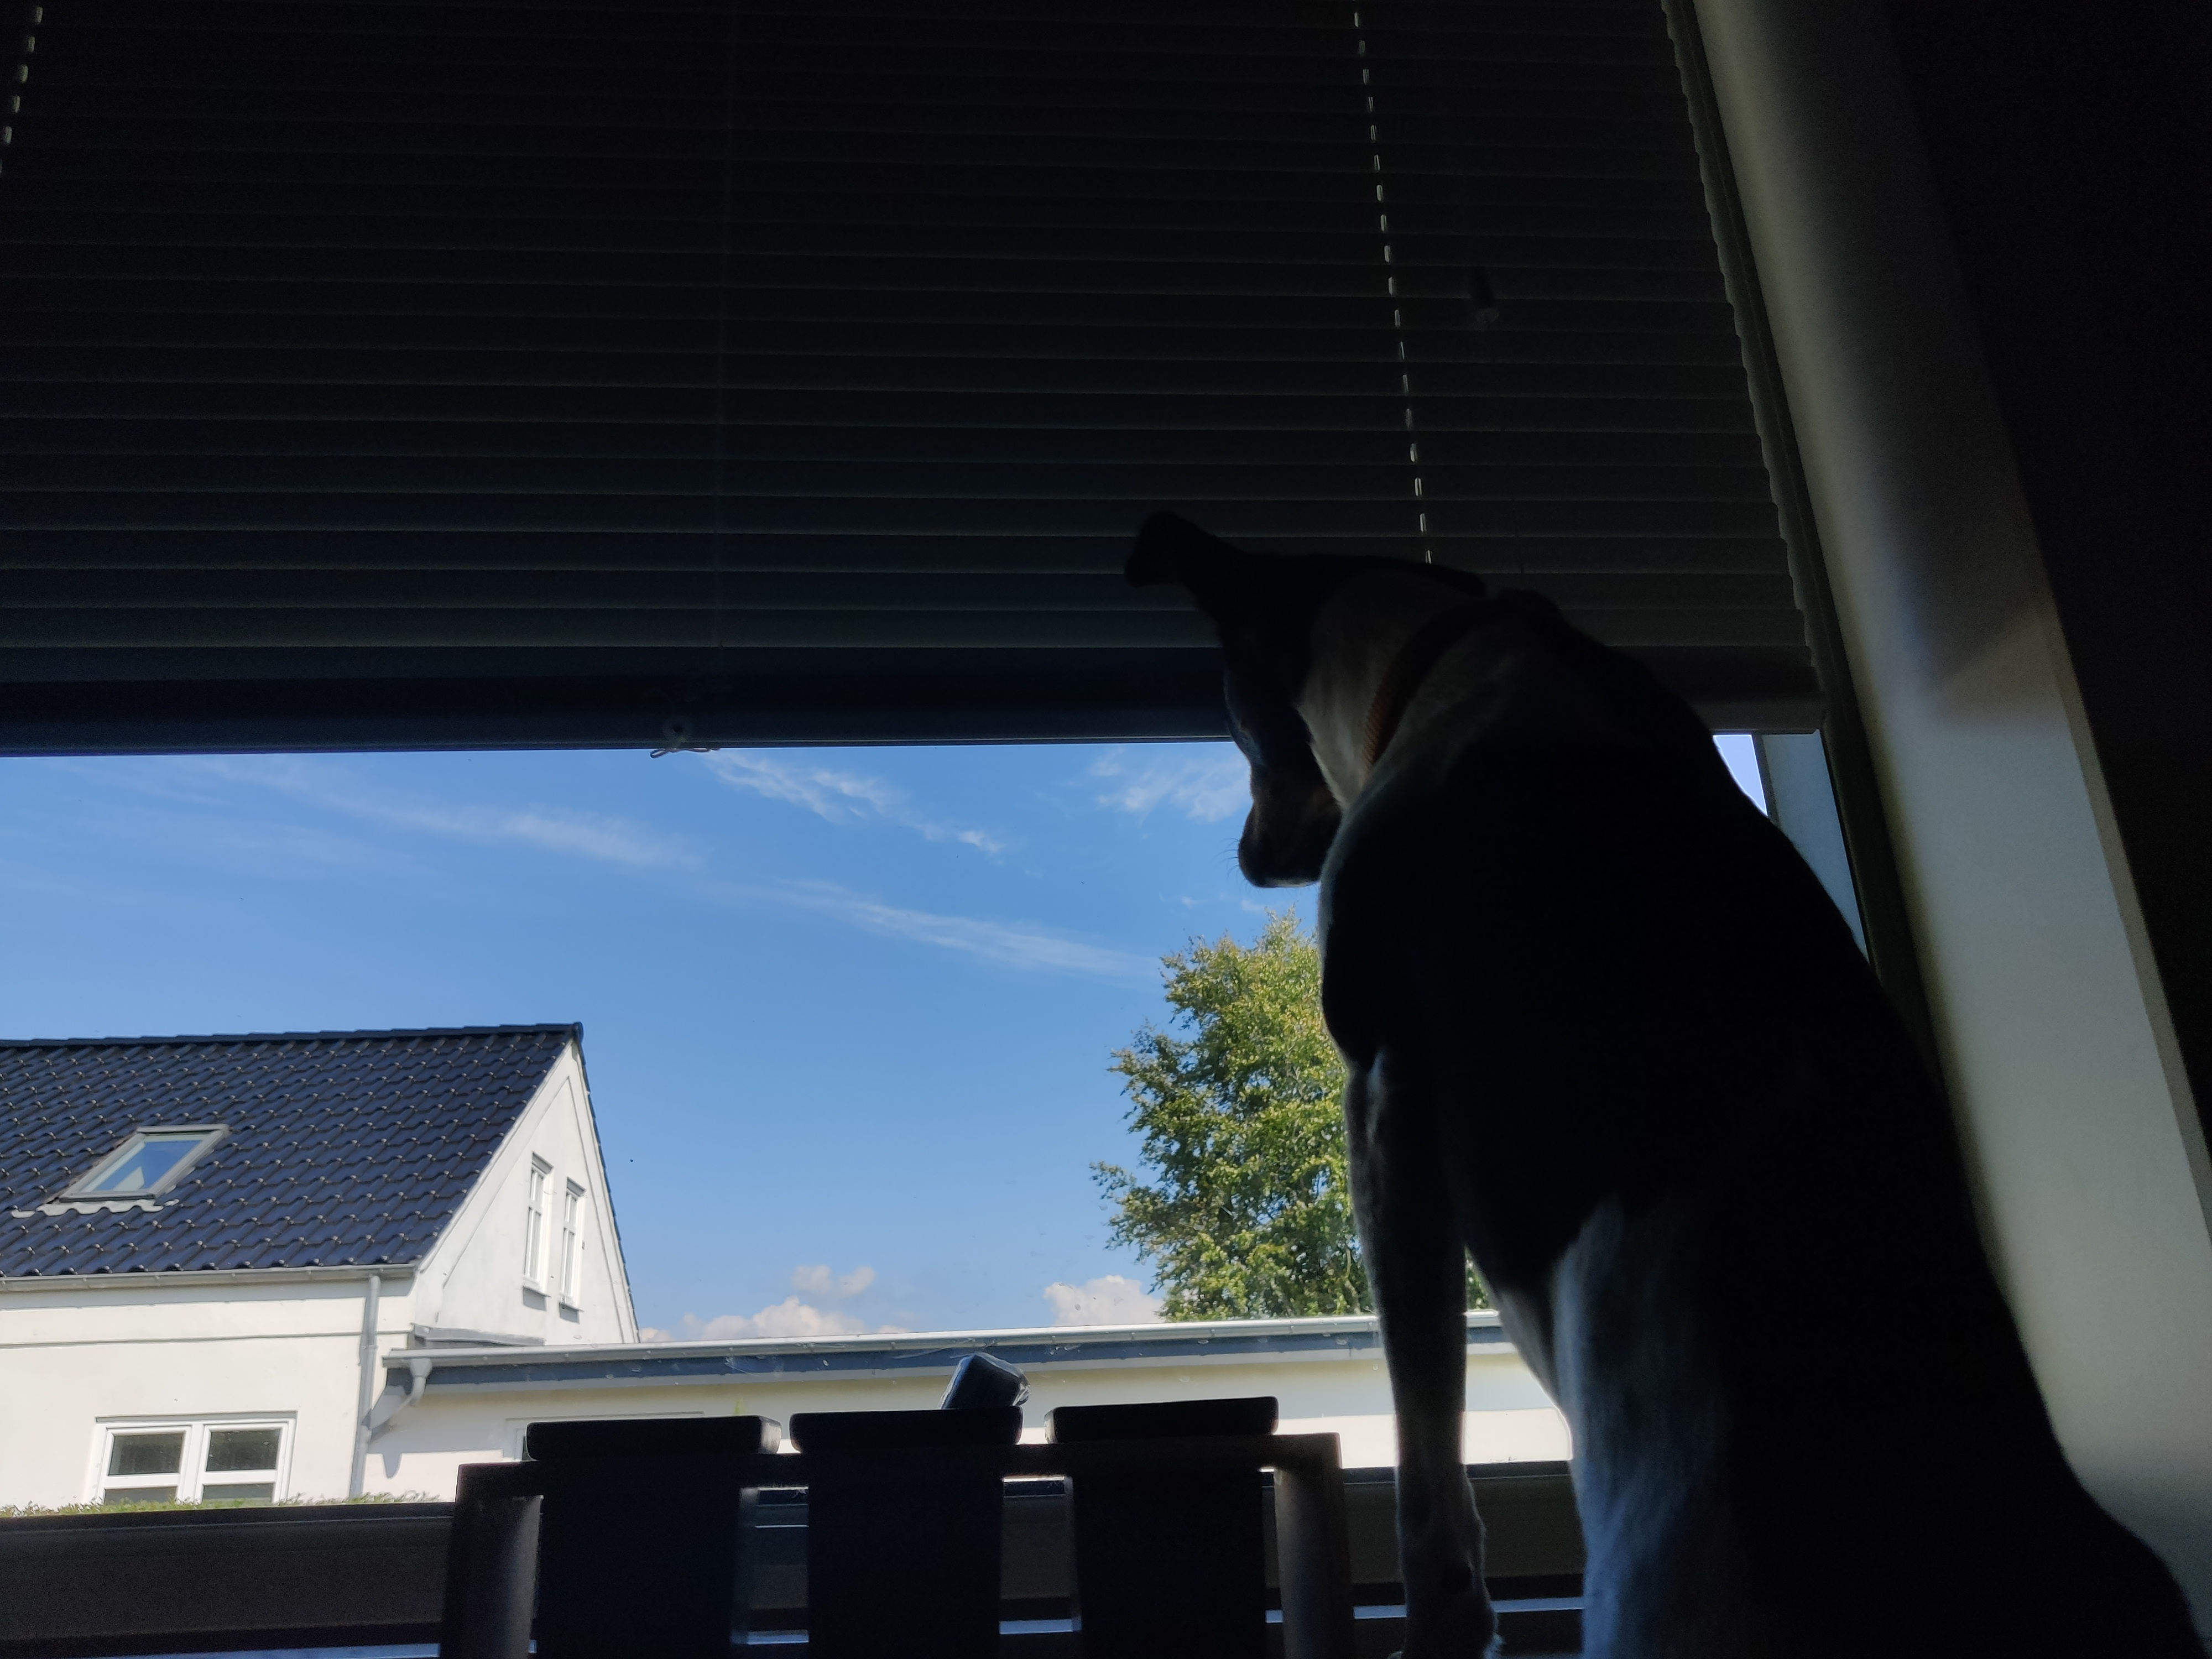Dog: (1109, 483, 2212, 1659)
